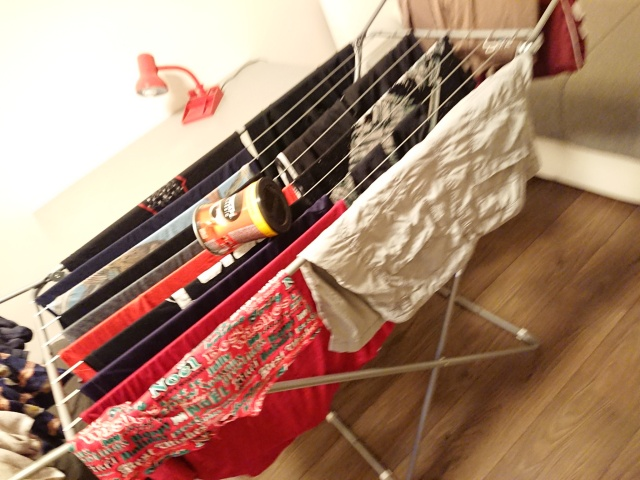Nescafe Classic 225g: (189, 174, 294, 258)
